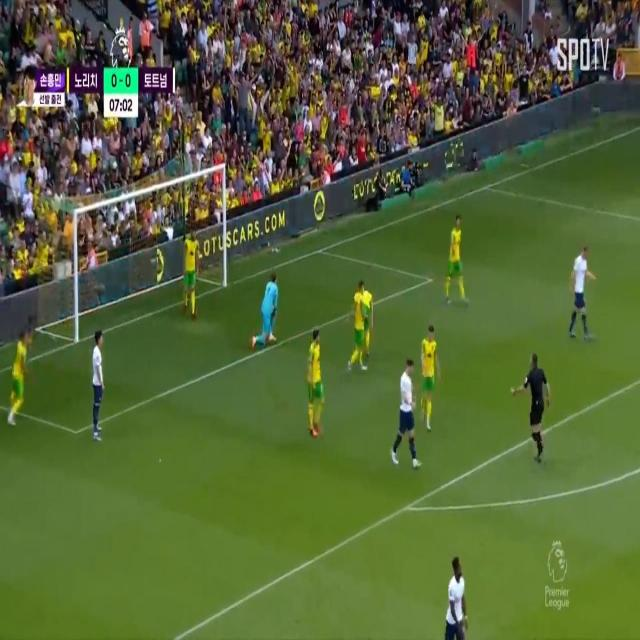player: (306, 328, 326, 437), (397, 361, 417, 467), (570, 250, 592, 331), (450, 554, 468, 640), (90, 329, 104, 436), (422, 322, 437, 418), (449, 216, 463, 308), (352, 280, 366, 372), (185, 225, 198, 319), (13, 333, 26, 423), (362, 286, 375, 361)
referee: (524, 358, 546, 452)
